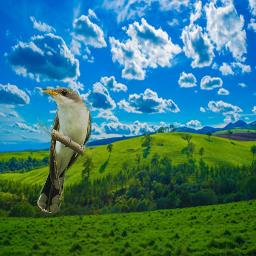Cuckoo: (37, 87, 92, 213)
